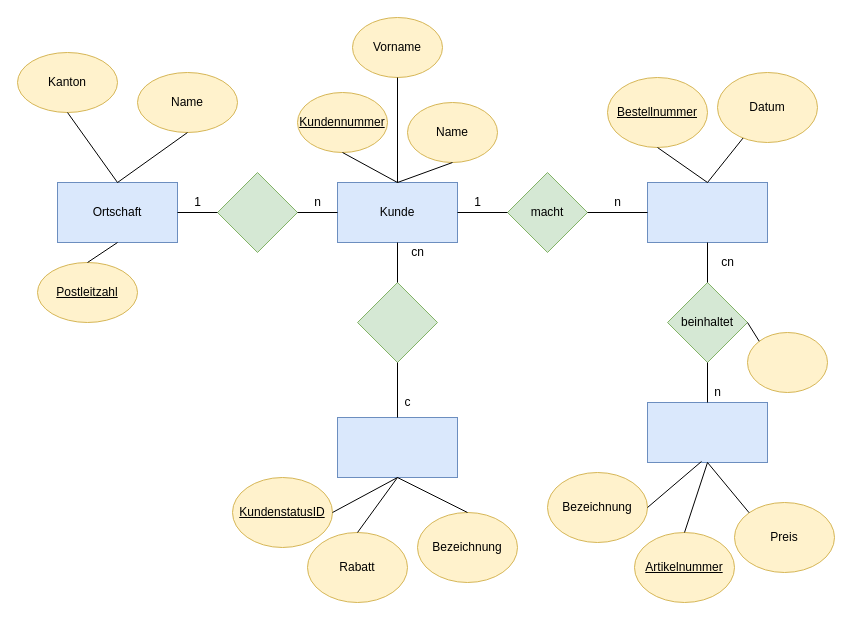
This 852x620 diagram has some shape labels left out. Here are the shapes that lost their labels. From the top down, the centre of each, then its label:
point 257,212: wohnt
point 707,212: Bestellung
point 397,322: hat
point 787,362: Anzahl
point 397,447: Kundenstatus
point 707,432: Artikel
